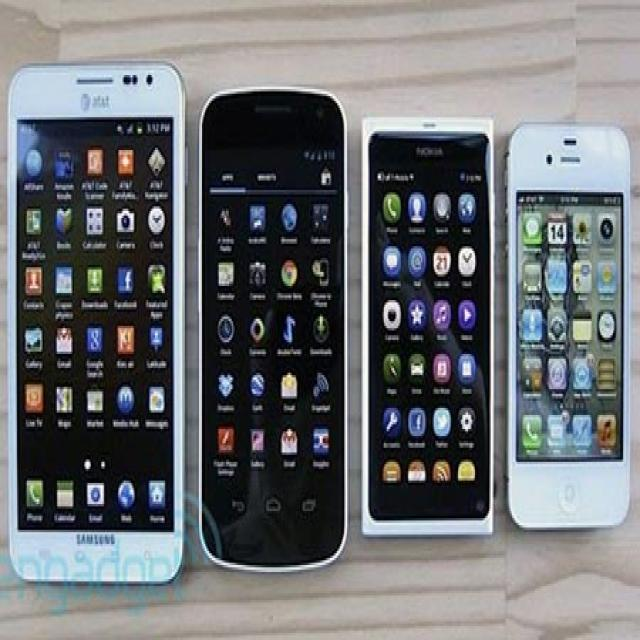smart phone: (2, 43, 190, 595), (194, 75, 358, 590), (365, 90, 505, 573), (510, 109, 635, 558)
